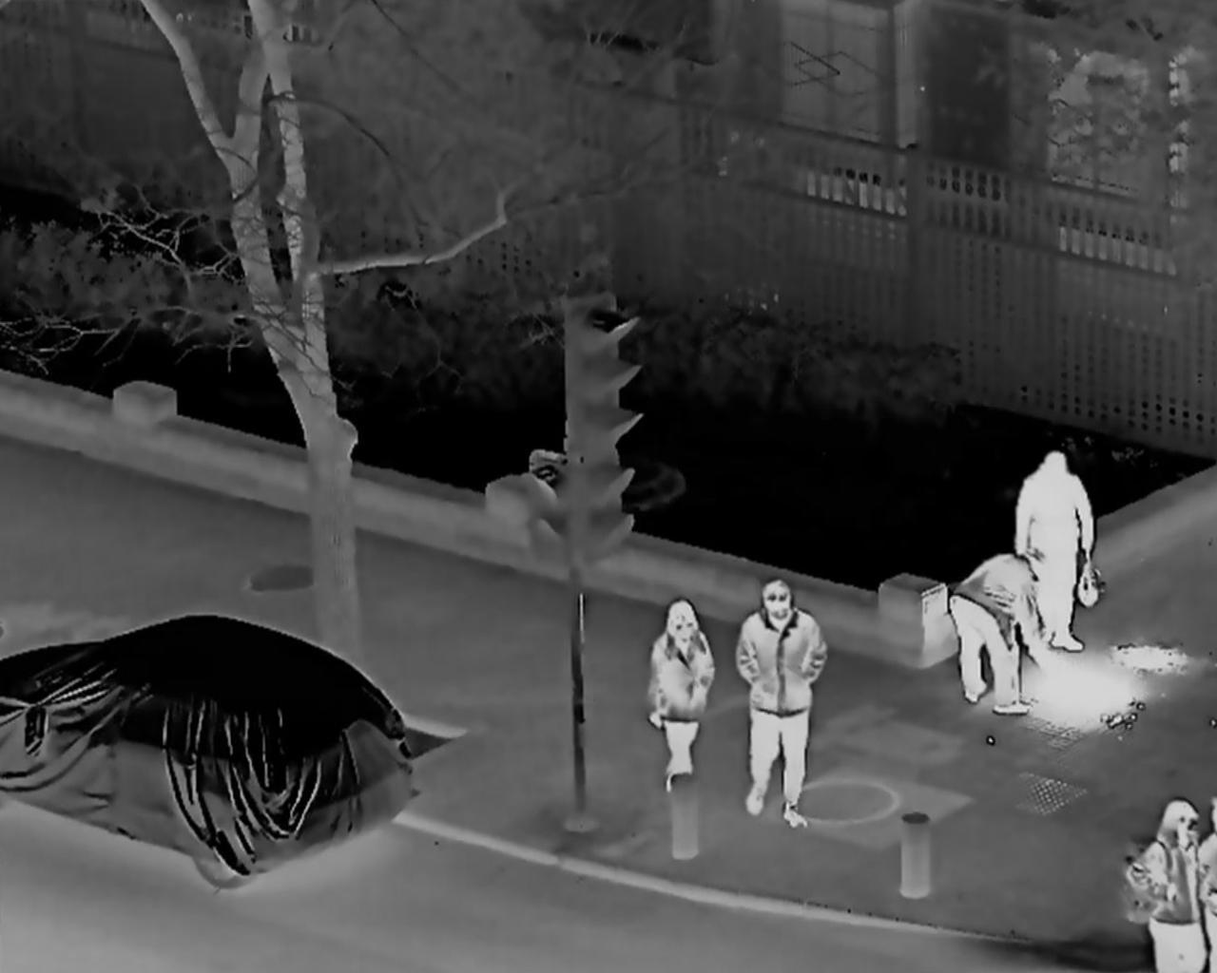person: (737, 580, 831, 832), (939, 545, 1049, 717), (1010, 449, 1099, 654), (1126, 797, 1207, 973), (650, 596, 713, 807)
